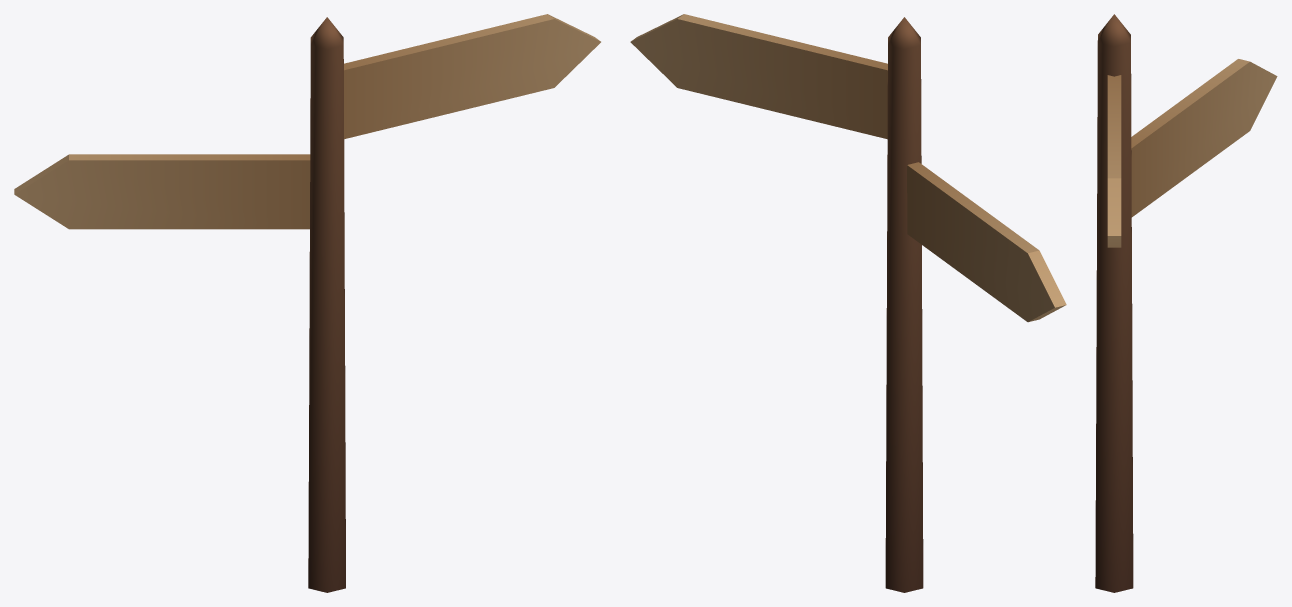
File: signpost.glb
3 renders of one model, left to right at view 1: azimuth 30°, elevation 25°; view 2: azimuth 150°, elevation 25°; view 3: azimuth 270°, elevation 25°, orthographic.
Visible parts, largest first — view 1: signpost; view 2: signpost; view 3: signpost.
Boxes of the visible parts, x1,y1,x2,y2 form: signpost: (14, 14, 600, 592); signpost: (630, 14, 1066, 592); signpost: (1095, 14, 1277, 592).
Bounding box in the file's own units: 2.16 × 2.3 × 0.6659.
